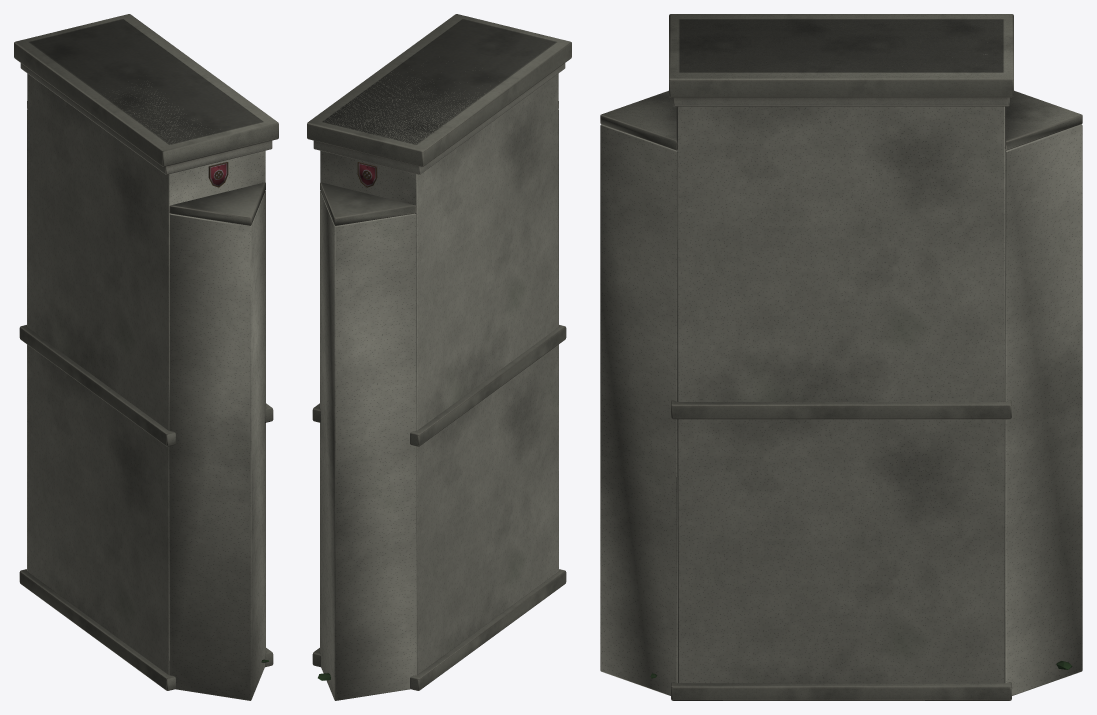
File: BridgePier.fbx
3 renders of one model, left to right at view 1: azimuth 30°, elevation 25°; view 2: azimuth 150°, elevation 25°; view 3: azimuth 270°, elevation 25°, orthographic. The views are drawn at different scales.
Parts seen in each view (by area): view 1: BridgePier_Wall, BridgePier_Main; view 2: BridgePier_Wall, BridgePier_Main; view 3: BridgePier_Wall, BridgePier_Main.
Part boxes in pixels (x1,y1,x2,y2): BridgePier_Wall: (27, 73, 265, 700); BridgePier_Main: (14, 14, 278, 690); BridgePier_Wall: (320, 72, 558, 700); BridgePier_Main: (307, 14, 571, 690); BridgePier_Wall: (600, 54, 1082, 695); BridgePier_Main: (600, 14, 1082, 700).
Size of the model in its own units: 360 by 1600 by 1117.
